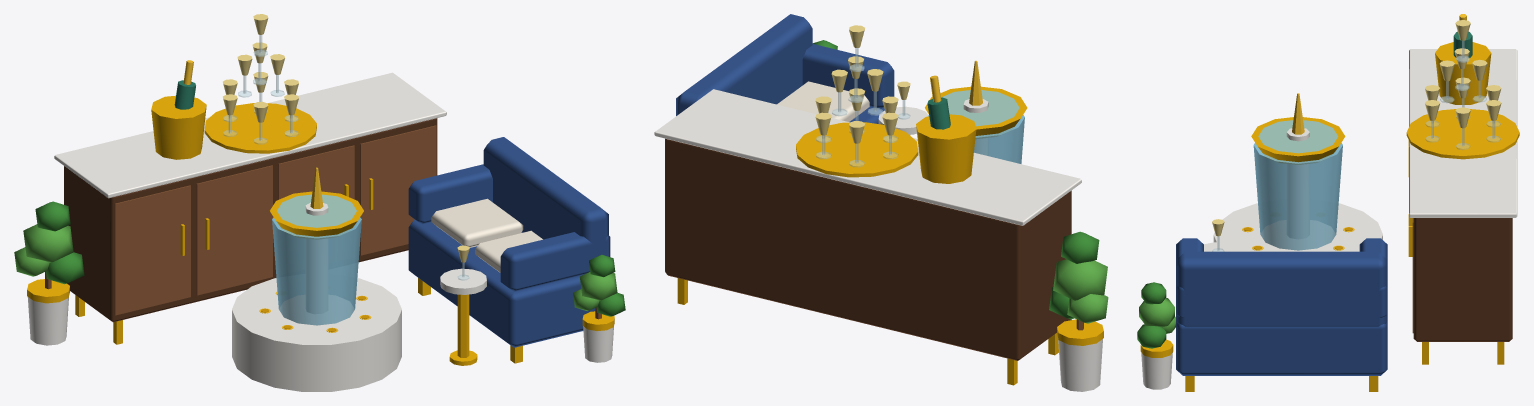
Rendered from station_special_2.glb.
3 renders of one model, left to right at view 1: azimuth 30°, elevation 25°; view 2: azimuth 150°, elevation 25°; view 3: azimuth 270°, elevation 25°, orthographic. The views are drawn at different scales.
Visible parts, largest first — view 1: station_special_2; view 2: station_special_2; view 3: station_special_2.
Boxes of the visible parts, x1,y1,x2,y2 form: station_special_2: (14, 14, 625, 391); station_special_2: (654, 14, 1108, 391); station_special_2: (1137, 14, 1519, 391).
Bounding box in the file's own units: 2.17 × 1.27 × 1.62.
